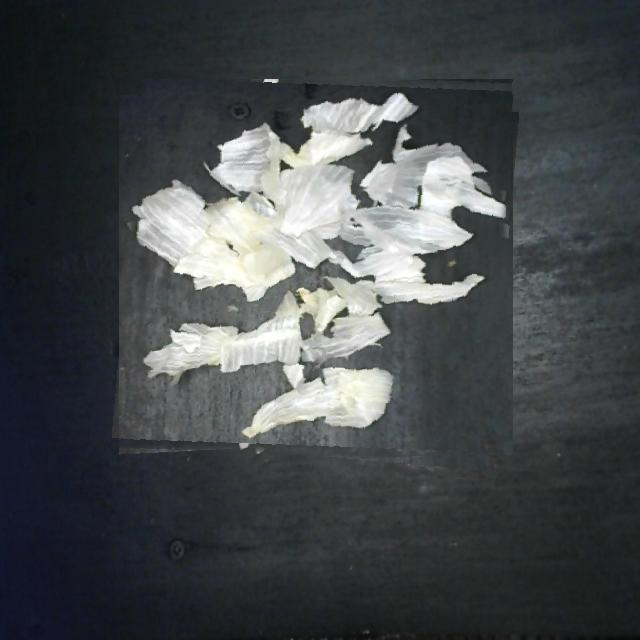biodegradable: (119, 79, 513, 472)
